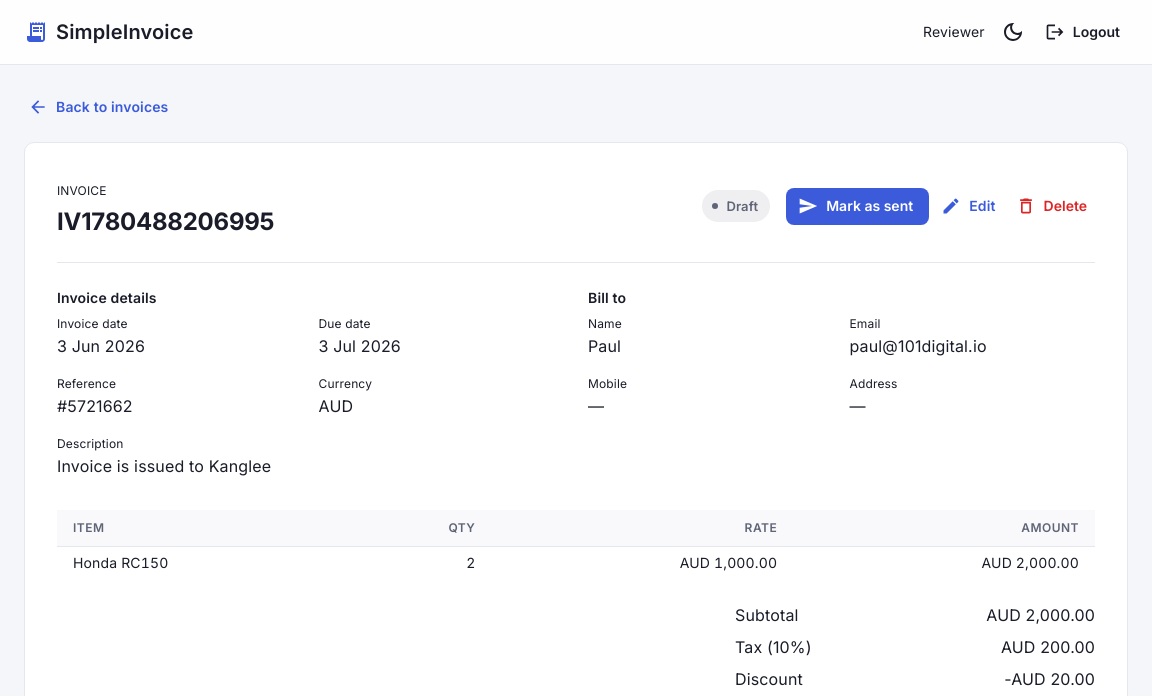
Test: Invoice lifecycle › marks a draft as sent
Check: the button "record payment" is not shown
Click the button "Mark as sent" at (858, 206), box [786,188,929,225]
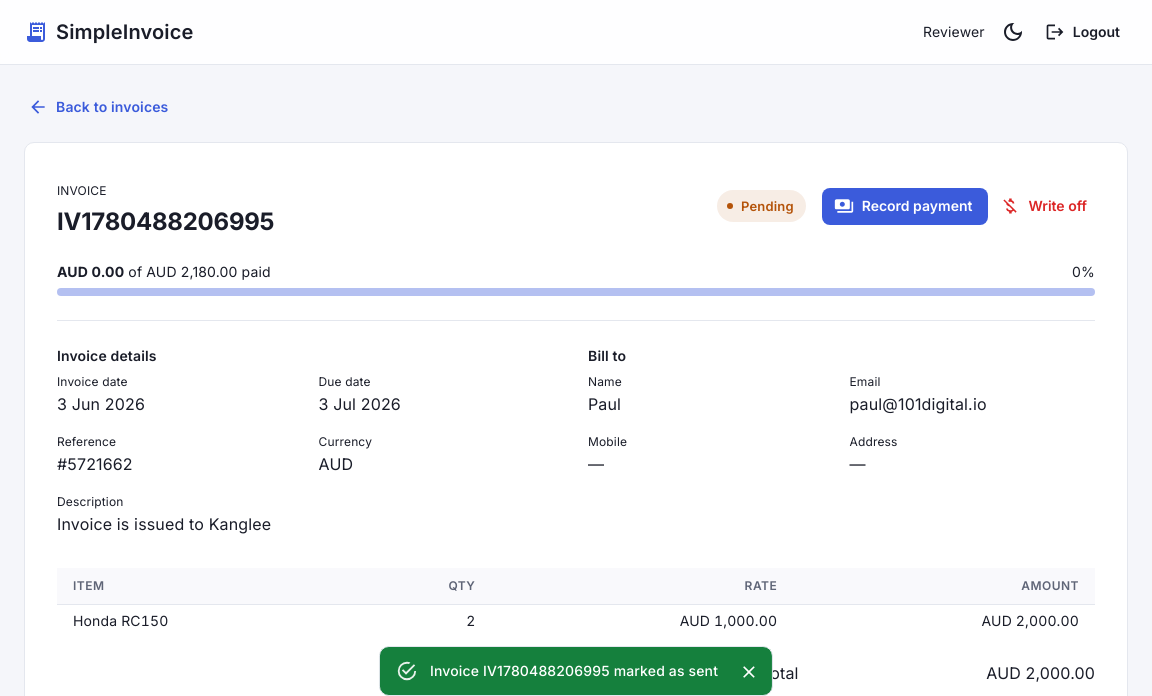
Check: the text "Invoice IV1780488206995 marked as sent" is shown, box [430,662,718,679]
Check: the button "Record payment" is shown, box [822,188,988,225]
Check: the button "Mark as sent" is gone
